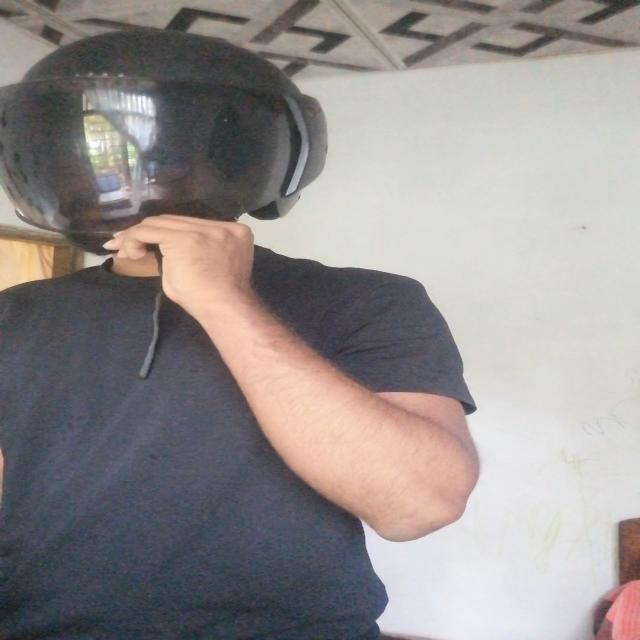Helmet_Wearer: (6, 31, 350, 317)
Person: (0, 26, 481, 640)
